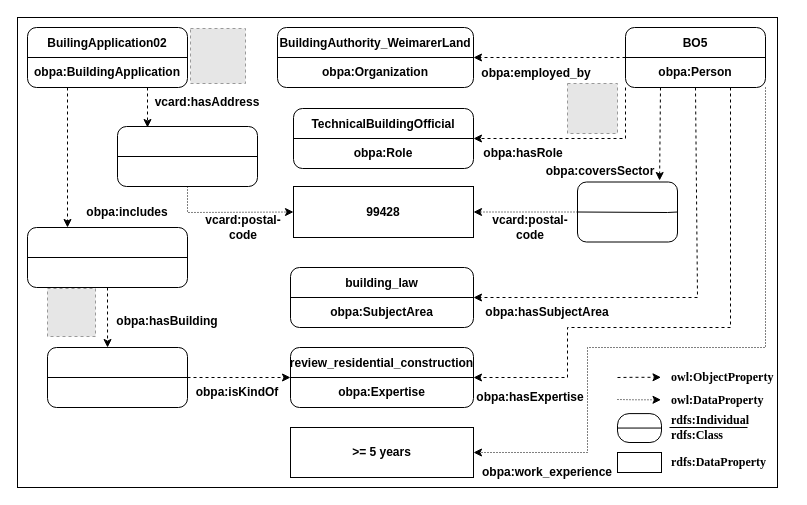
Some shapes in this 807 by 505 pixel diagram are drawn without their labels. Grey dashed boxes stand in for pictures. Here are the shapes that lost their labels. From the top down, the centre of each, then its label:
pixel 187 156: Address02 vcard:Address
pixel 627 211: AddressRange02 obpa:Sector
pixel 107 257: ConstructionProject02 obpa:ConstructionProject
pixel 117 377: Building02 obpa:Building
